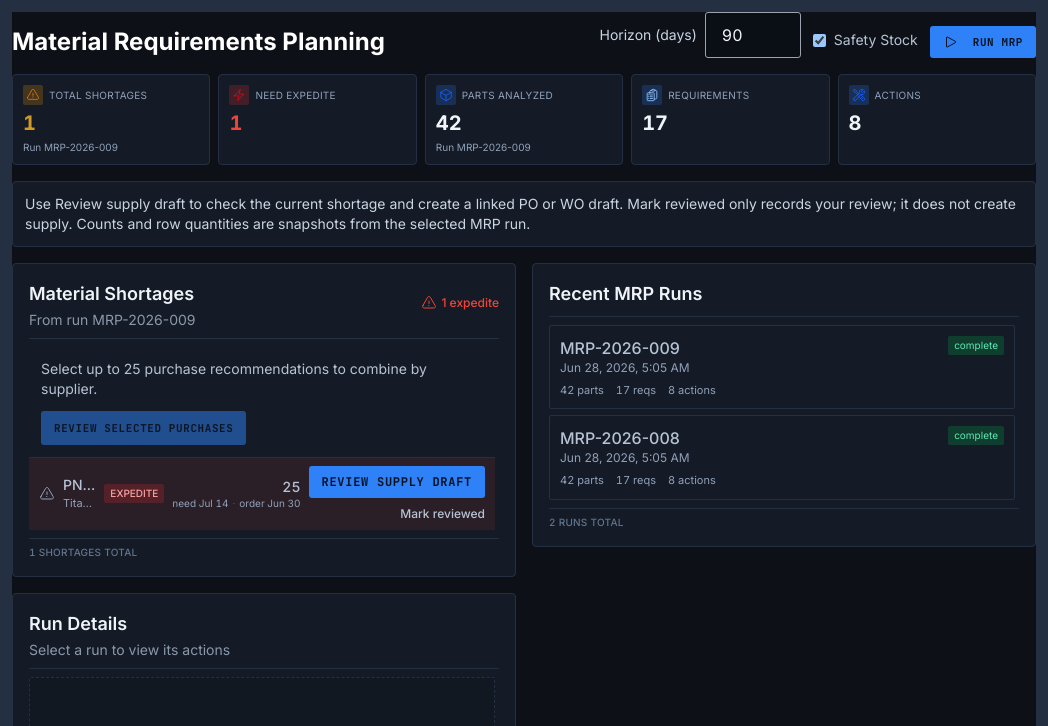
Test case: MRP request scope and review semantics › marks reviewed with the server follow-up message and prevents duplicate review
Click the button "Mark reviewed".
click(443, 514)  # box [400,506,485,522]
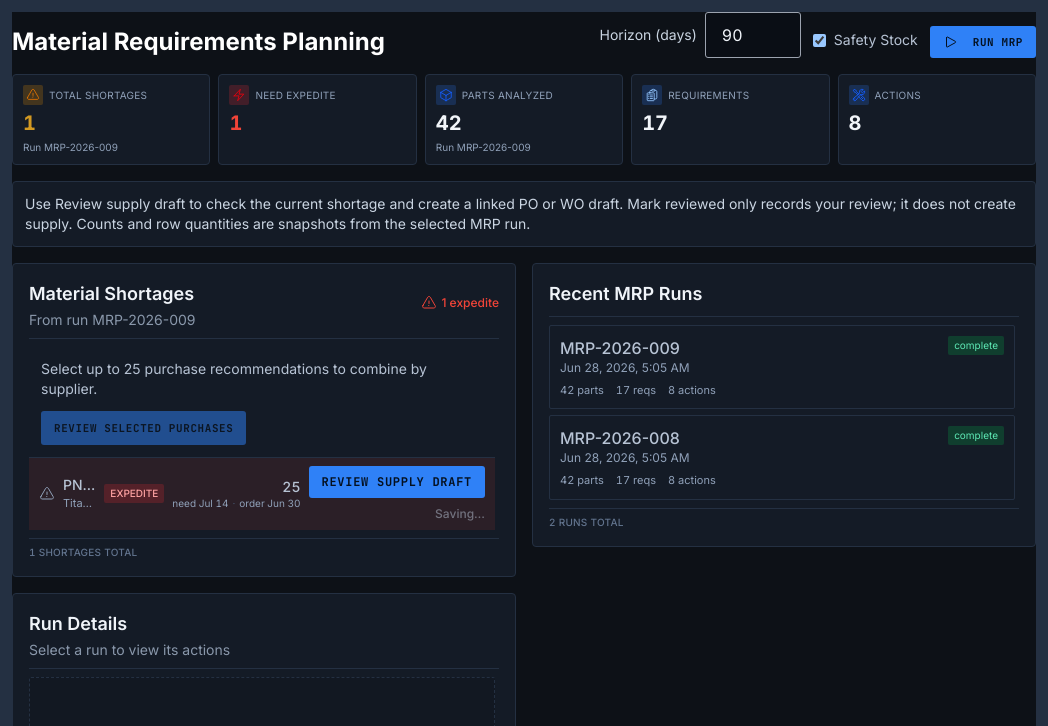
Expected: the button named "Mark reviewed" is disabled
Click the button named "Mark reviewed".
click(460, 514)  # box [435,506,485,522]
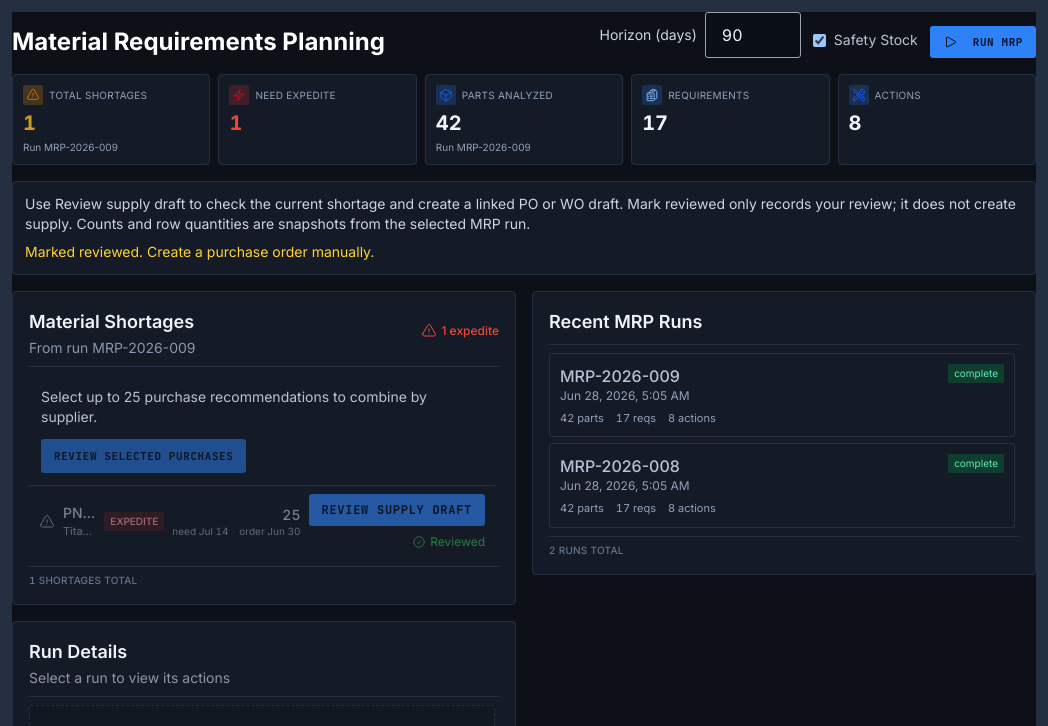
Expected: the text "Marked reviewed. Create a purchase order manually." is shown, [25,242,374,260]
Expected: the text "Reviewed" is shown, [412,534,485,550]
